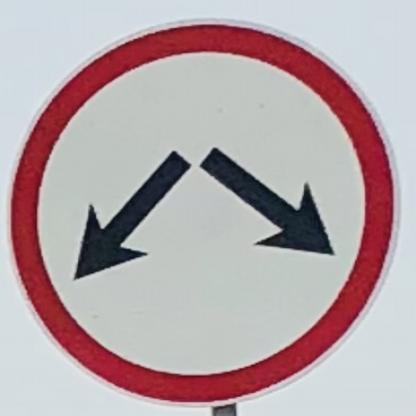Road Divides: (7, 17, 403, 407)
